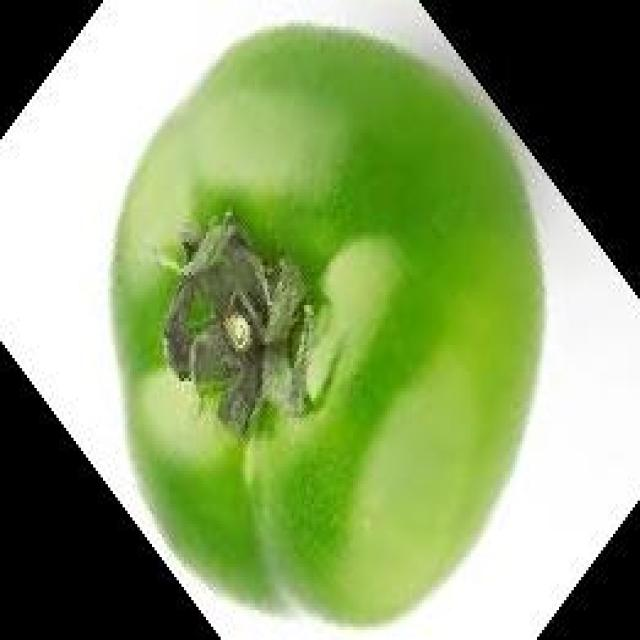unripe tomato: (109, 14, 548, 632)
